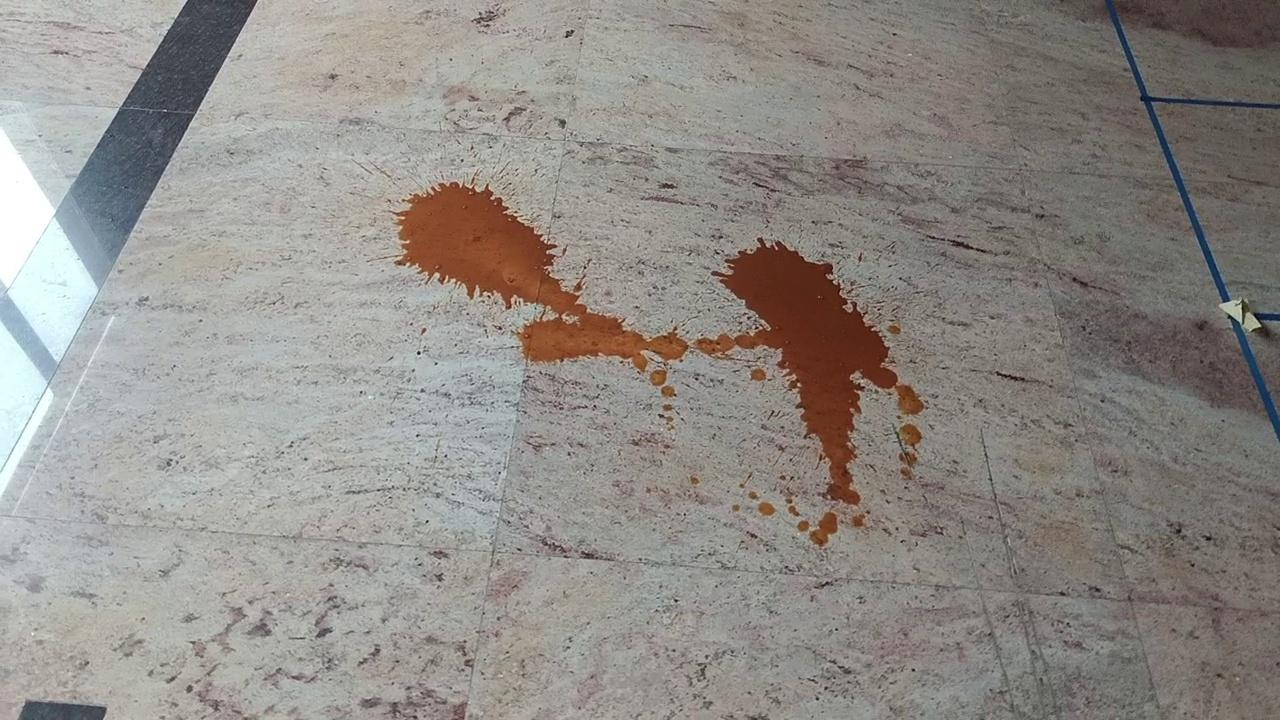dirty_floor: (393, 177, 923, 546)
